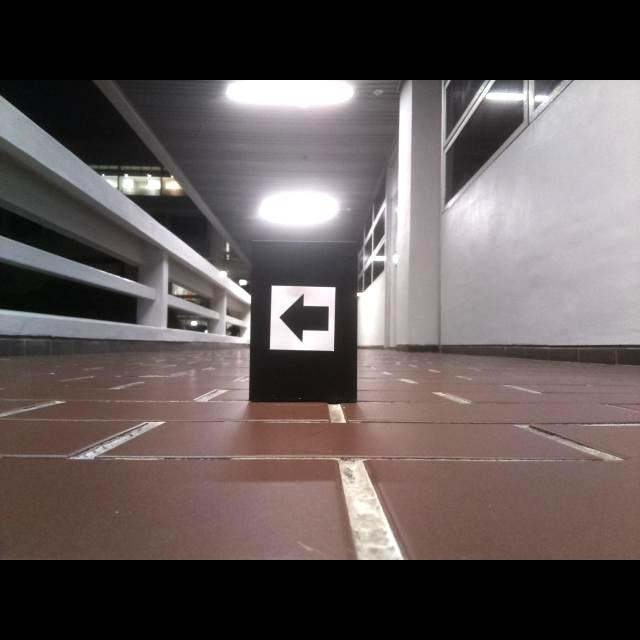LEFT: (278, 293, 329, 343)
